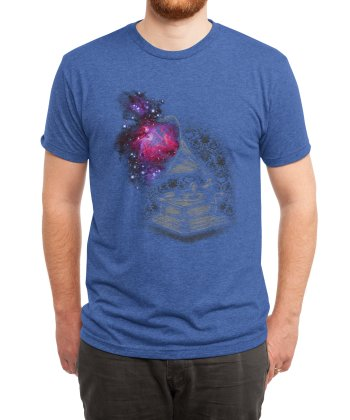design: (110, 86, 237, 246)
